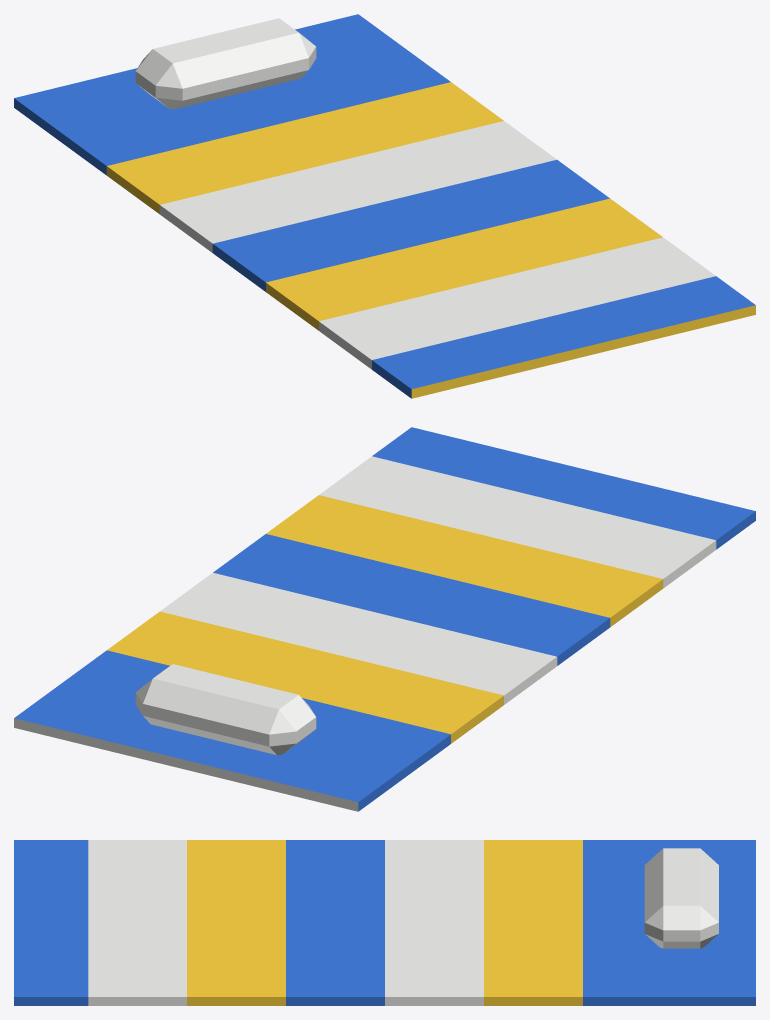
The model's file is BeachTowel.fbx.
3 renders of one model, top to bottom at view 1: azimuth 30°, elevation 25°; view 2: azimuth 150°, elevation 25°; view 3: azimuth 270°, elevation 25°, orthographic. The views are drawn at different scales.
Visible parts, largest first — view 1: BeachTowel; view 2: BeachTowel; view 3: BeachTowel.
Boxes of the visible parts, x1,y1,x2,y2 form: BeachTowel: (14,14,755,398); BeachTowel: (14,427,755,811); BeachTowel: (14,840,755,1005).
Size of the model in its own units: 3 by 0.45 by 6.
Materials: 1 (1 with a texture image).
